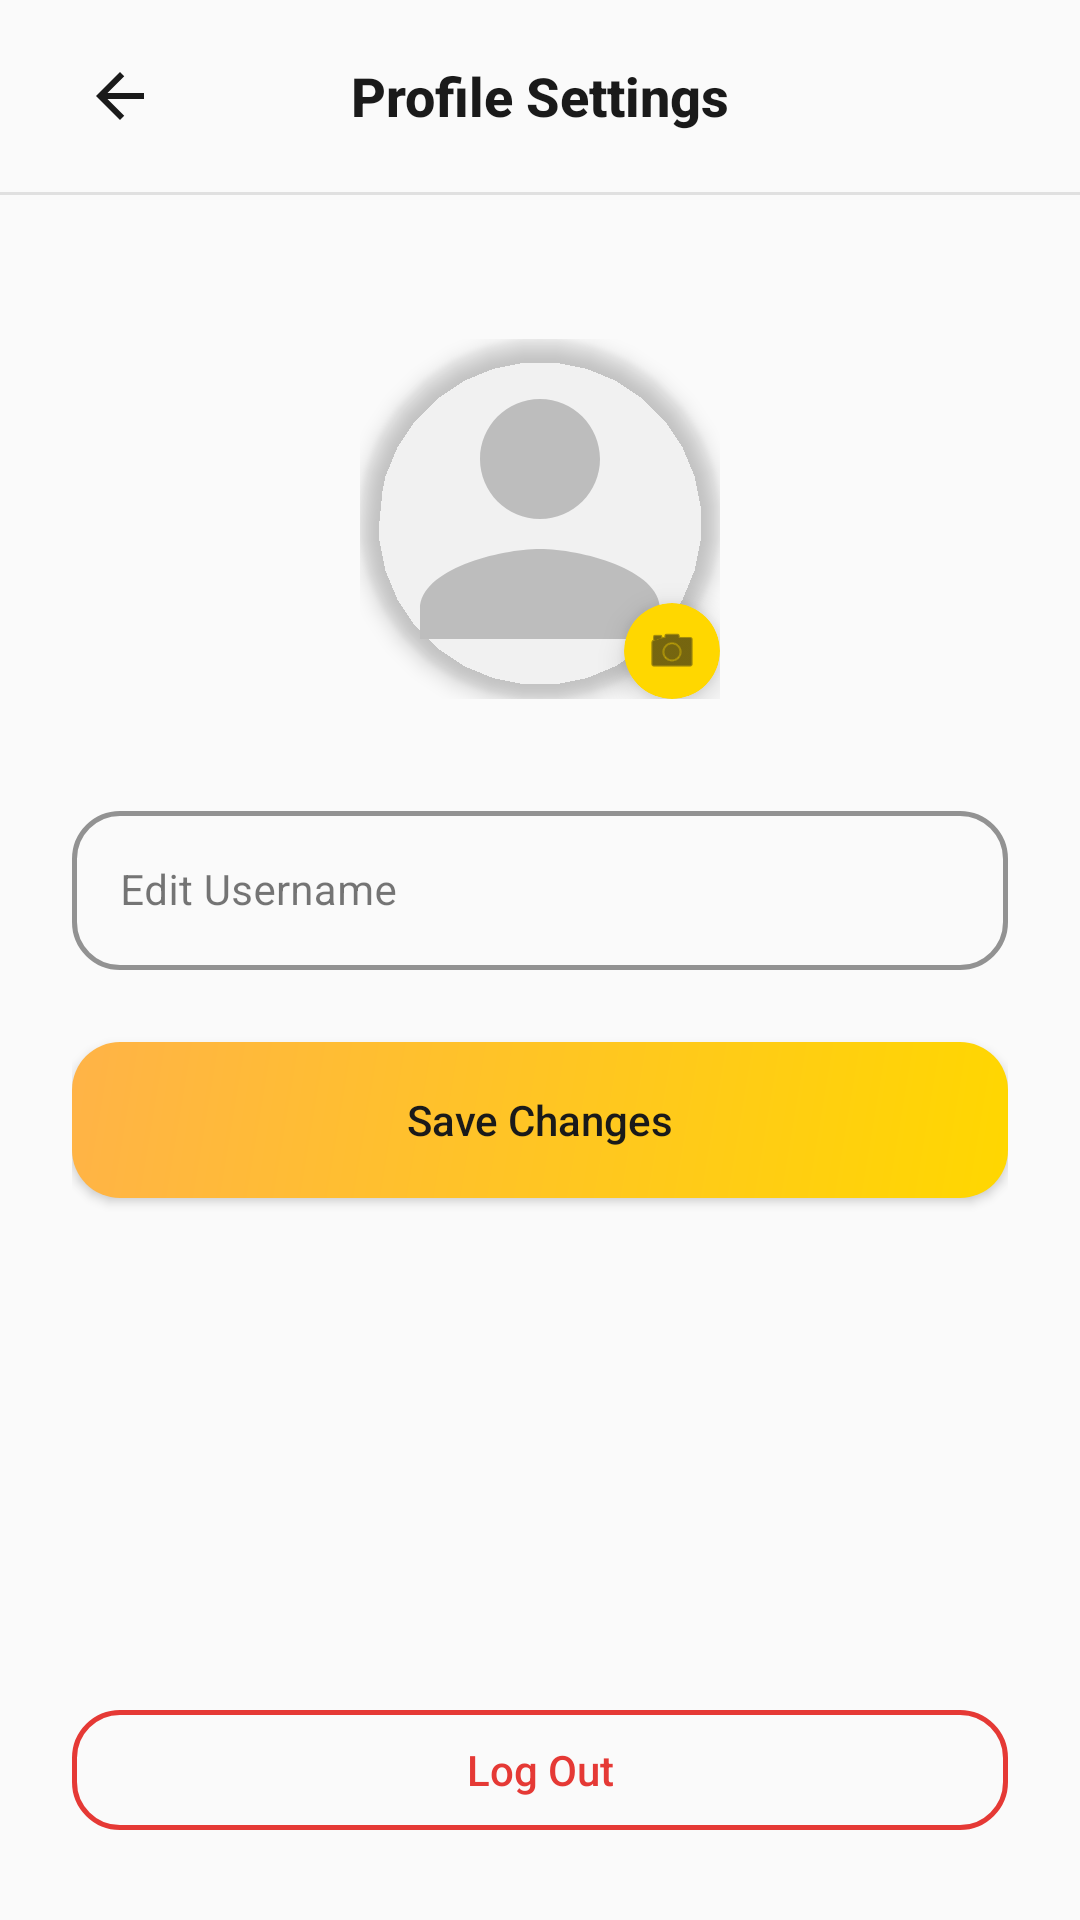

Icons on this 1080×1920 Android screen, each with the point to tap as (x=x, y=y):
Back Button: (x=120, y=96)
